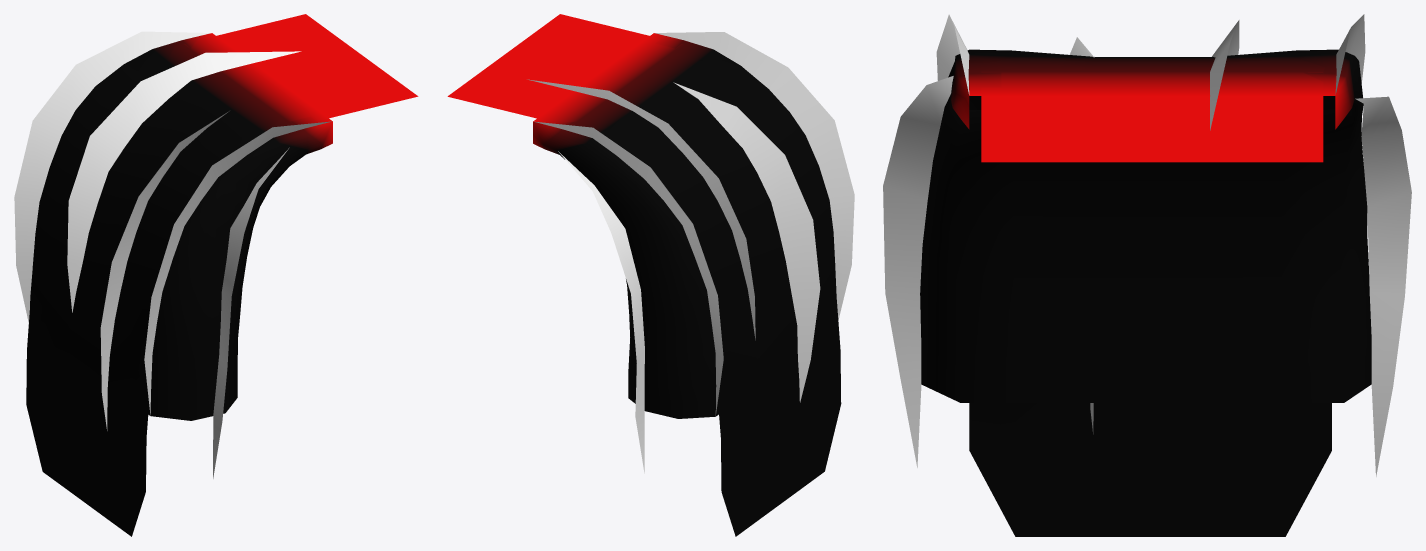
The model's file is TFD_Waterfall_02A_Top.fbx.
3 views of the same model, side by side, from view 1: azimuth 30°, elevation 25°; view 2: azimuth 150°, elevation 25°; view 3: azimuth 270°, elevation 25° (orthographic). The views are drawn at different scales.
Visible parts, largest first — view 1: TFD_Waterfall_02A_Top; view 2: TFD_Waterfall_02A_Top; view 3: TFD_Waterfall_02A_Top.
Part boxes in pixels (x1,y1,x2,y2): TFD_Waterfall_02A_Top: [14, 14, 418, 536]; TFD_Waterfall_02A_Top: [447, 14, 854, 536]; TFD_Waterfall_02A_Top: [883, 14, 1411, 536].
Size of the model in its own units: 4.83 by 6.35 by 5.05.
